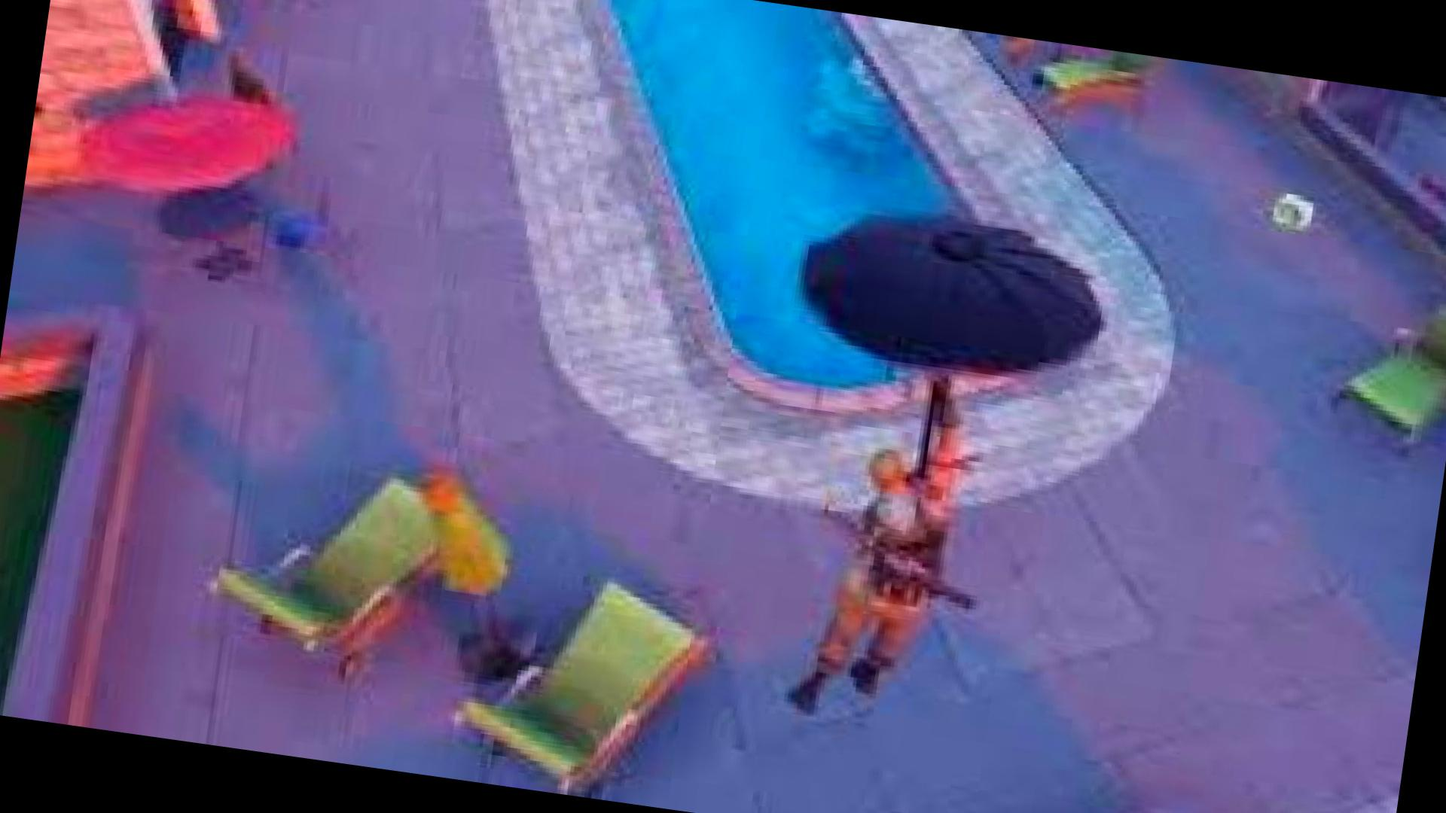player: (804, 453, 975, 754)
